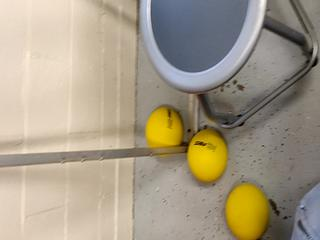power_cell: (221, 180, 272, 240), (184, 123, 235, 183), (135, 101, 186, 161)
